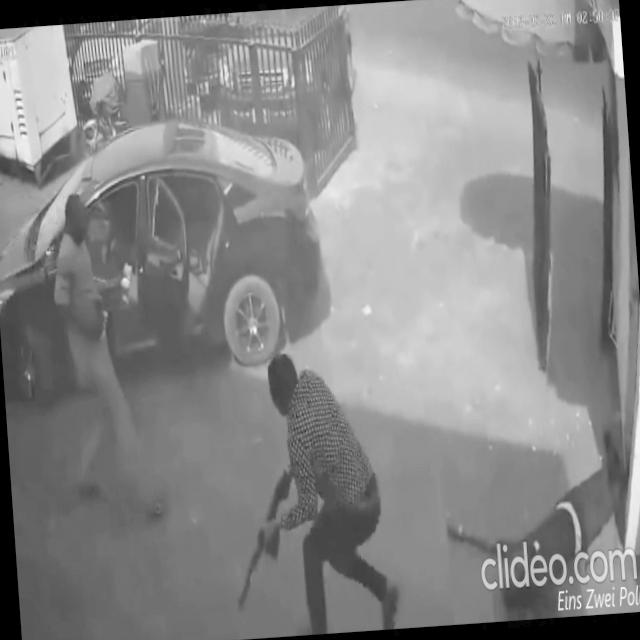gun: (228, 460, 302, 616)
person: (249, 344, 405, 639), (46, 183, 175, 530), (438, 426, 636, 624)
person with a gun: (221, 343, 405, 639)
